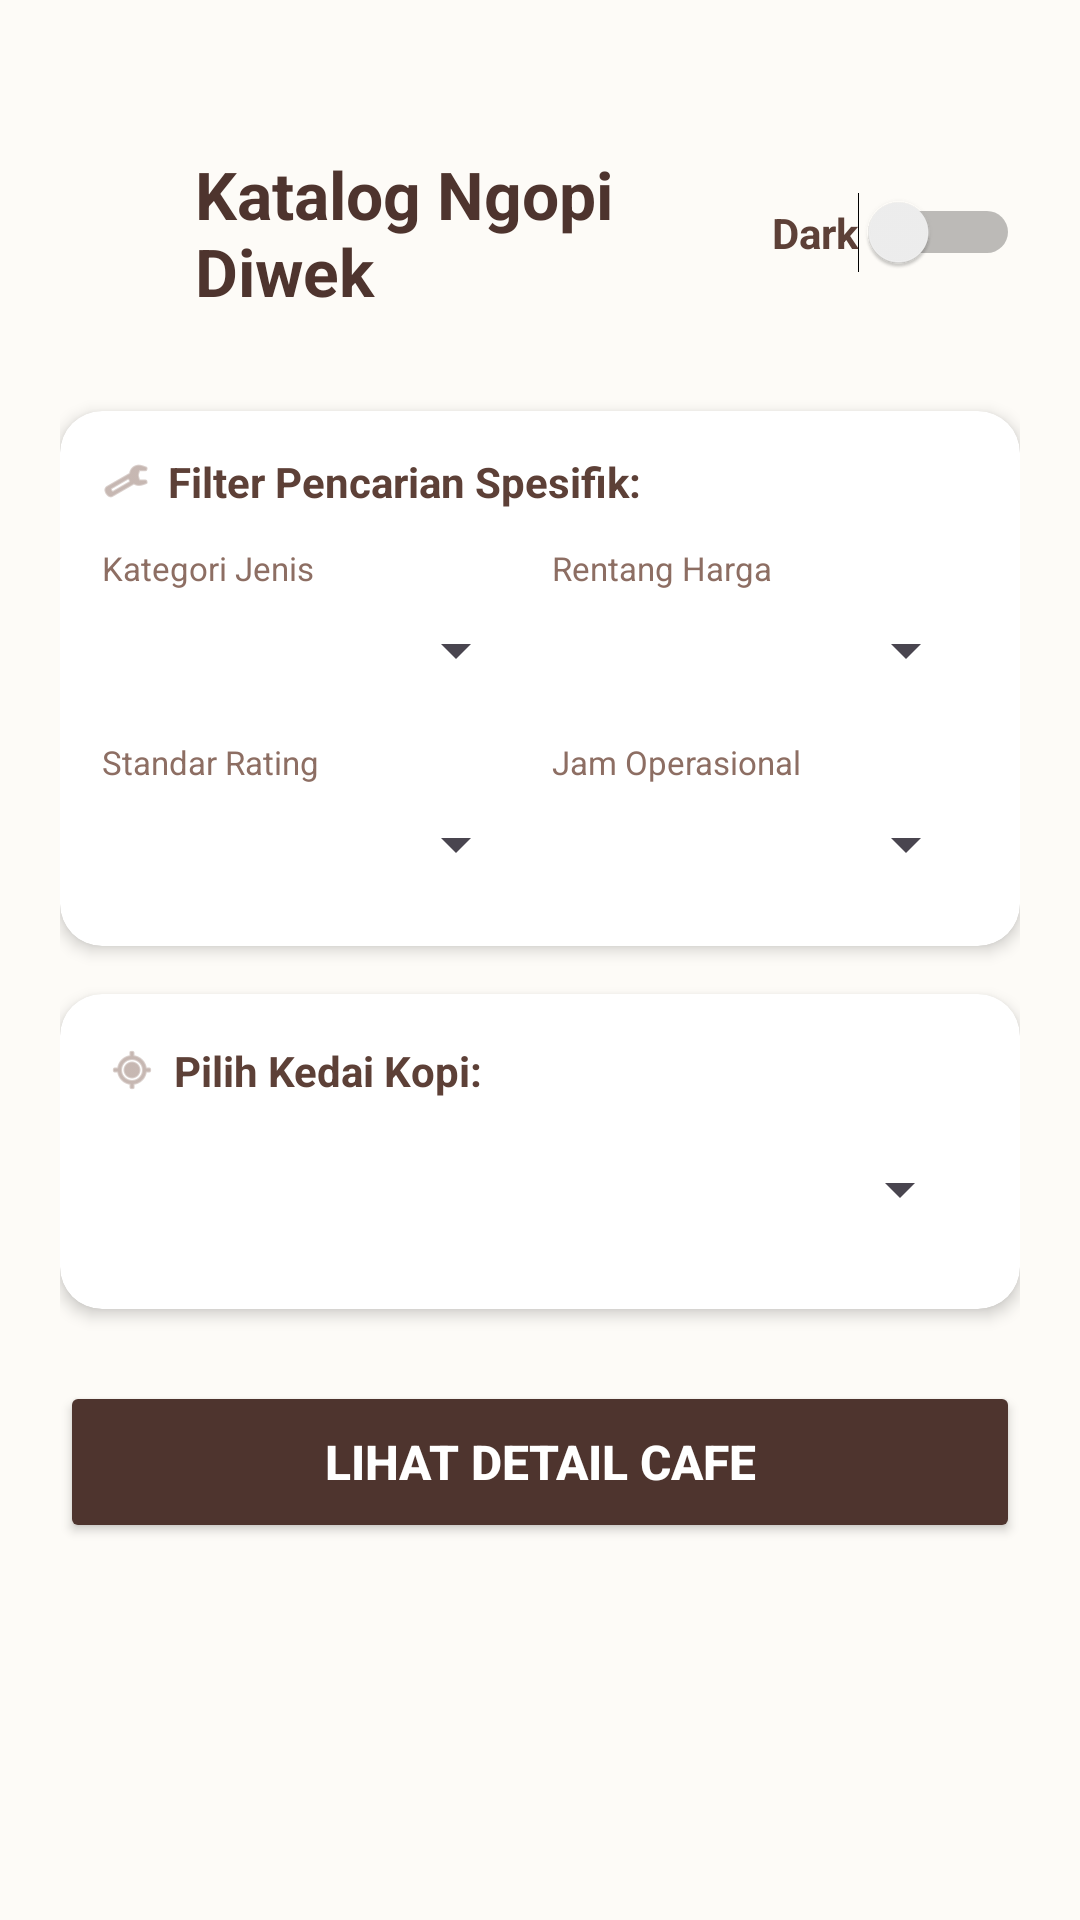

Named icons in this screenshot (1080w x 1920h) and their bounding boxes, (x1=x1, y1=y1, x2=x2, y2=y2):
Icon Location: (x1=113, y1=1051, x2=151, y2=1089)
